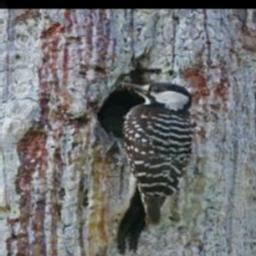Woodpecker: (109, 77, 200, 254)
